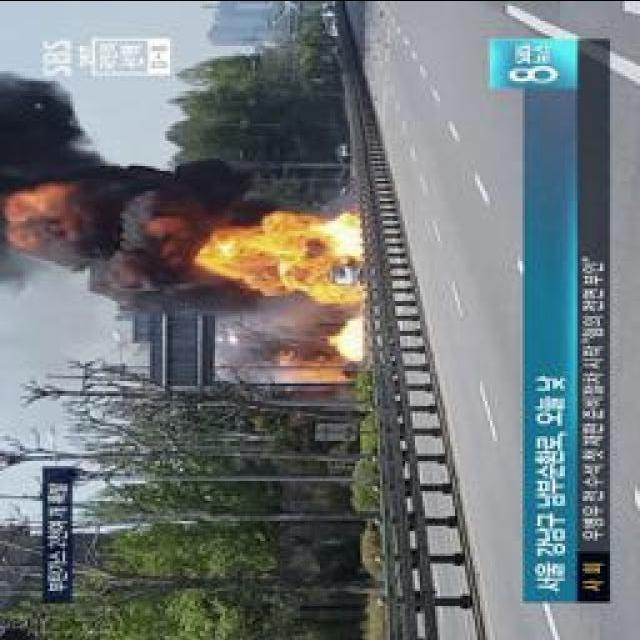Fire: (214, 209, 363, 297), (328, 314, 364, 358), (278, 369, 342, 378)
